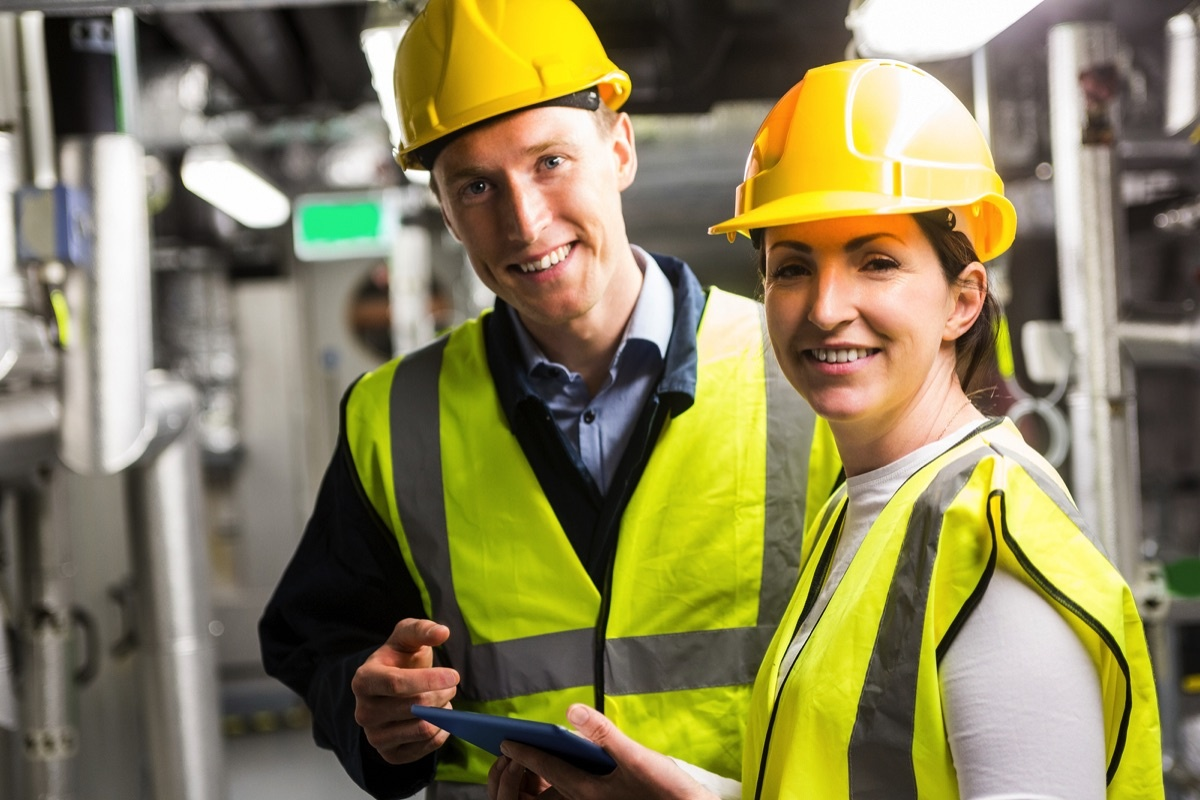helmet: (724, 59, 1030, 261), (391, 1, 623, 172)
person with full safety: (301, 6, 841, 800), (729, 46, 1167, 800)
safety vest: (358, 303, 826, 800), (764, 444, 1181, 799)
